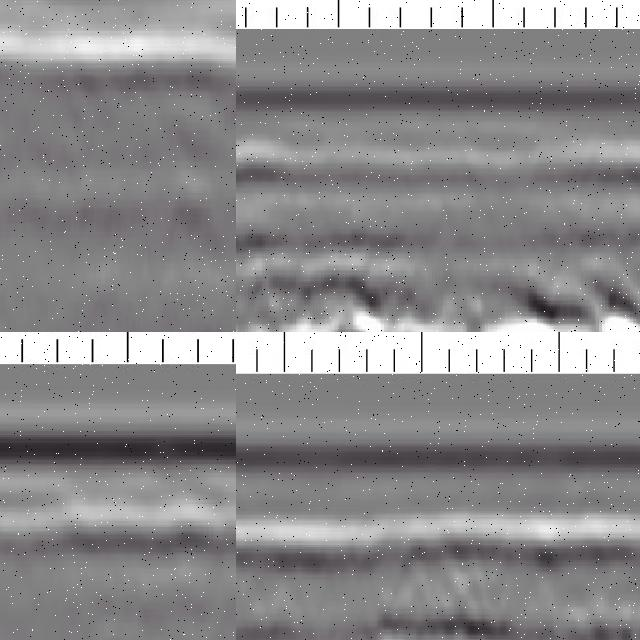loose: (289, 270, 640, 333), (355, 591, 569, 640)
